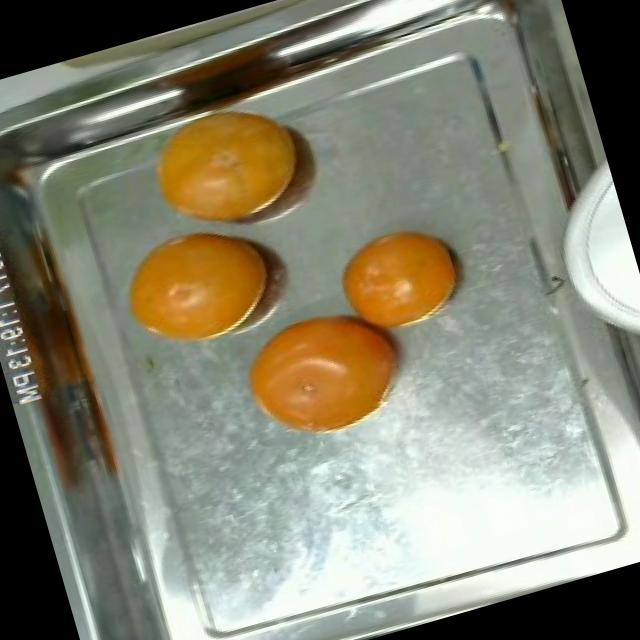Fruit: (221, 287, 421, 457), (125, 86, 327, 250), (98, 202, 294, 368), (318, 206, 480, 347)
